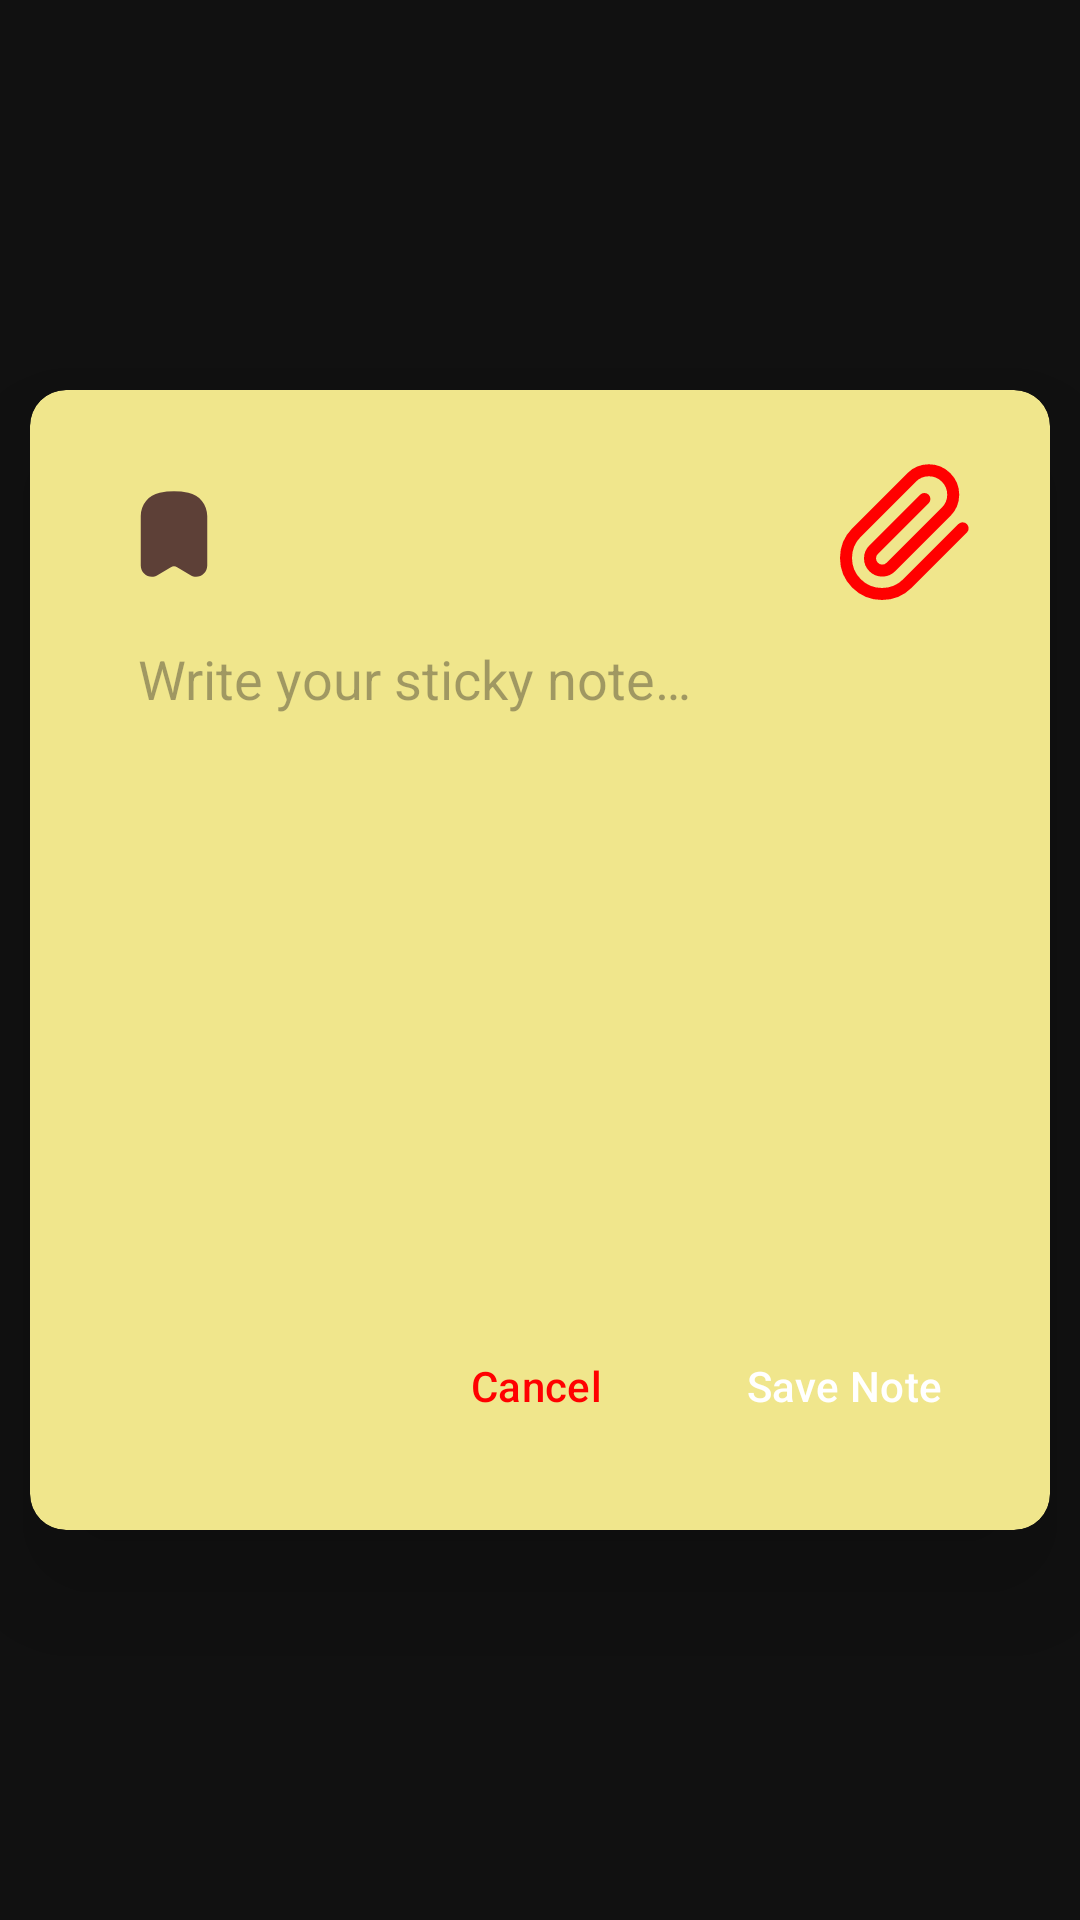

Icons on this 1080px x 1920px Android screen, each with its box as (x1, y1, x2, y2):
paperclip: (840, 464, 969, 600)
saved: (140, 491, 208, 577)
